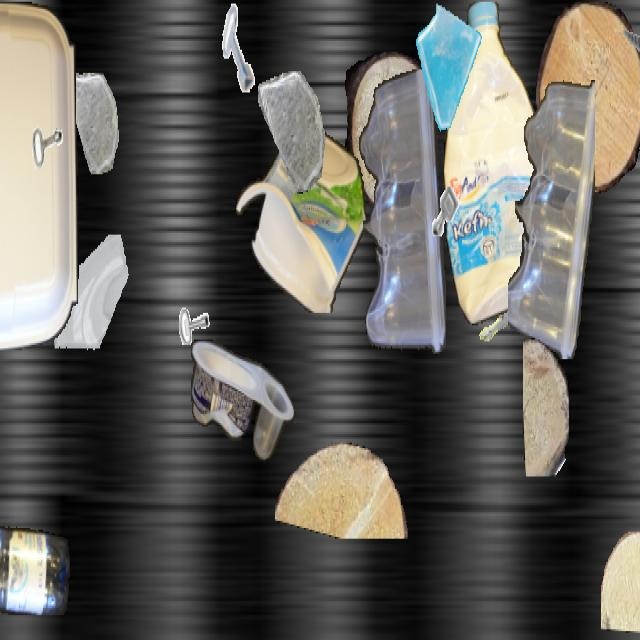glass: (52, 234, 134, 380), (412, 2, 486, 133), (258, 71, 326, 192), (64, 73, 120, 172)
metal: (13, 73, 73, 179), (462, 271, 520, 374), (214, 2, 266, 94), (169, 265, 213, 343), (424, 174, 466, 249), (614, 2, 640, 105)
plastic: (444, 2, 546, 325), (0, 2, 78, 350), (356, 69, 446, 361), (236, 124, 366, 313), (508, 73, 594, 357), (191, 340, 293, 460), (0, 519, 70, 615)
wood: (536, 2, 640, 194), (342, 52, 438, 212), (275, 442, 411, 538), (523, 338, 569, 476), (601, 532, 640, 631)
